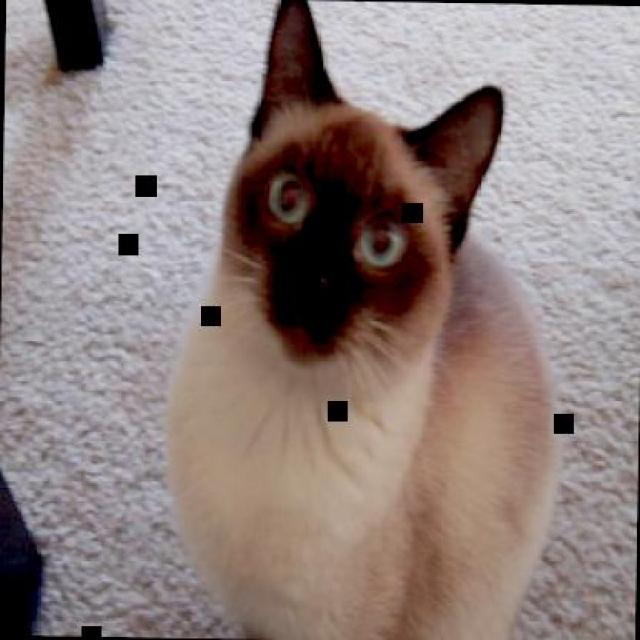cat: (156, 0, 572, 638)
